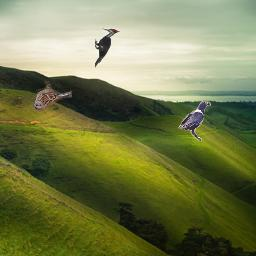Crow: (178, 101, 211, 141)
Sparrow: (32, 81, 72, 111)
Woodpecker: (95, 28, 120, 68)
